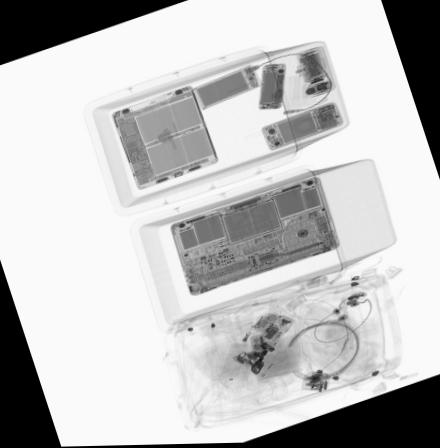Powerbank: (193, 64, 260, 111)
